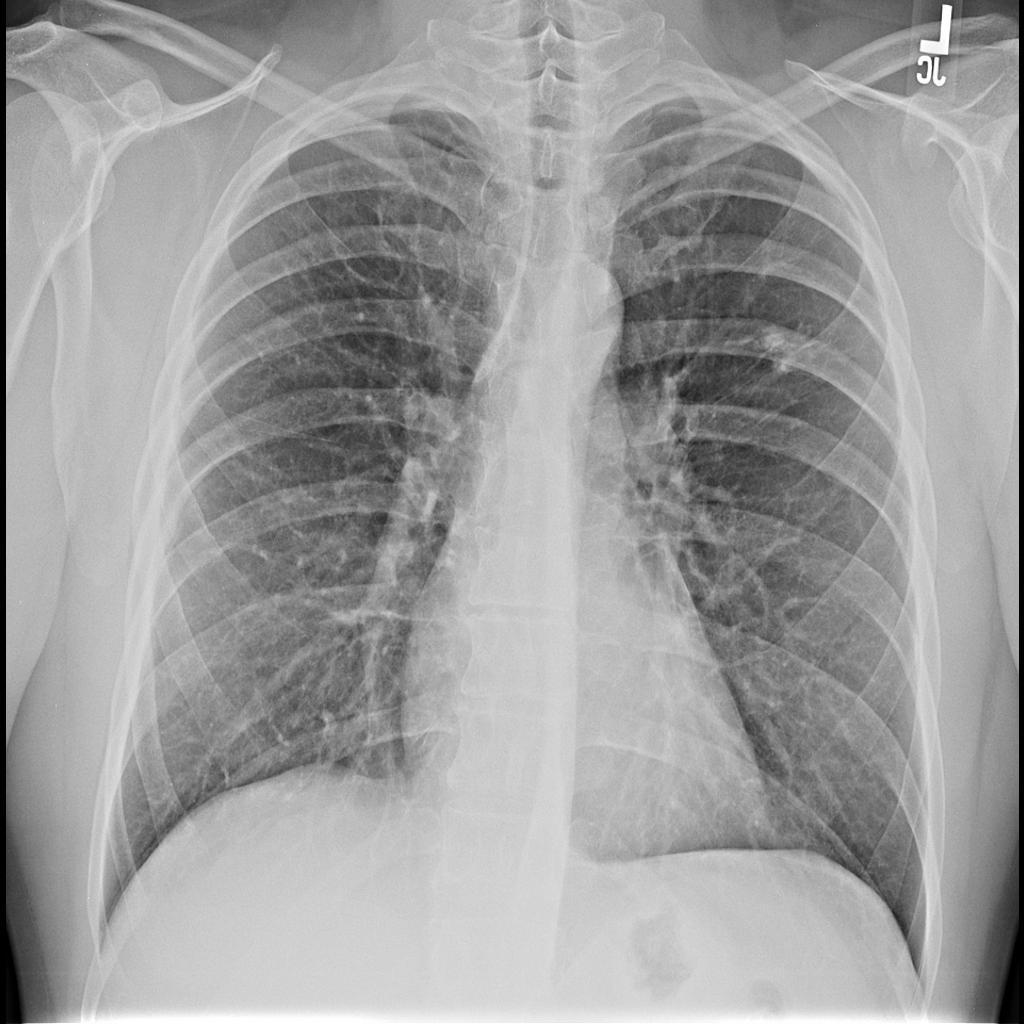Nodule: (762, 327, 796, 367)
